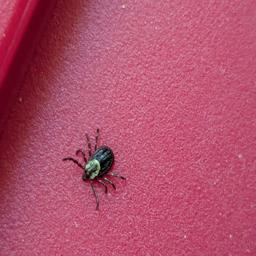Dermacentor variabilis: (60, 127, 130, 210)
